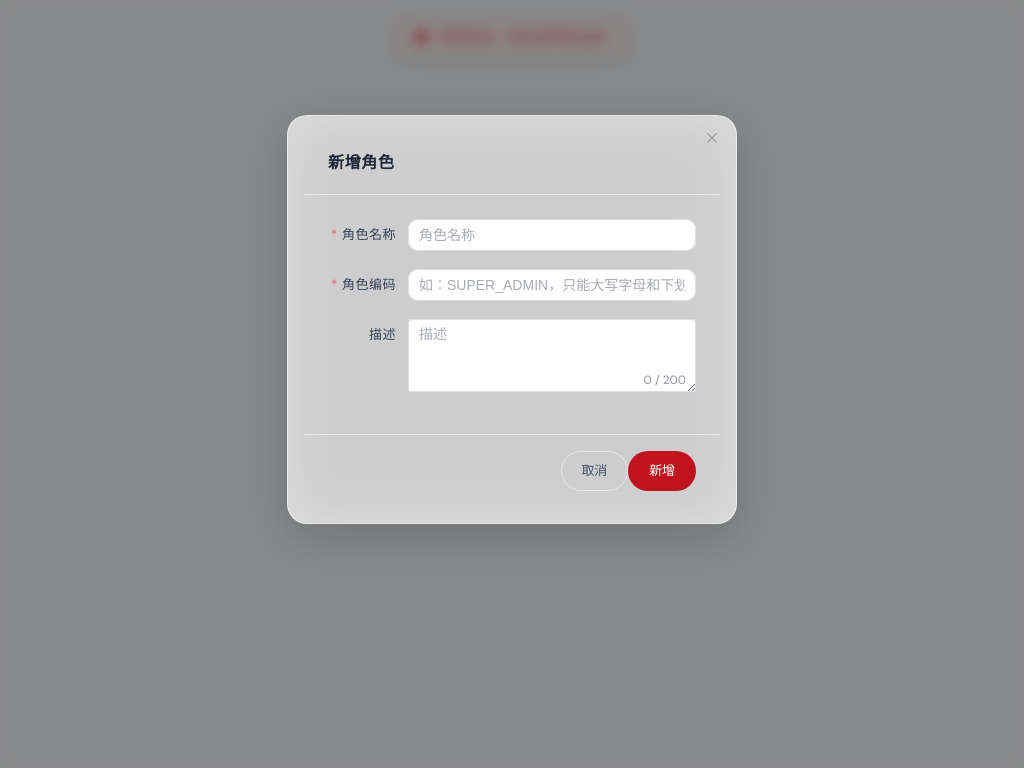
Test: RoleFormDialog 角色编码即时归一 › 连续输入：每次都在上一次结果上继续归一（不是只处理第一次）
Type "a-b" into the field with id "roleCode" at (552, 285), box x1=419 y1=270 x2=685 y2=300
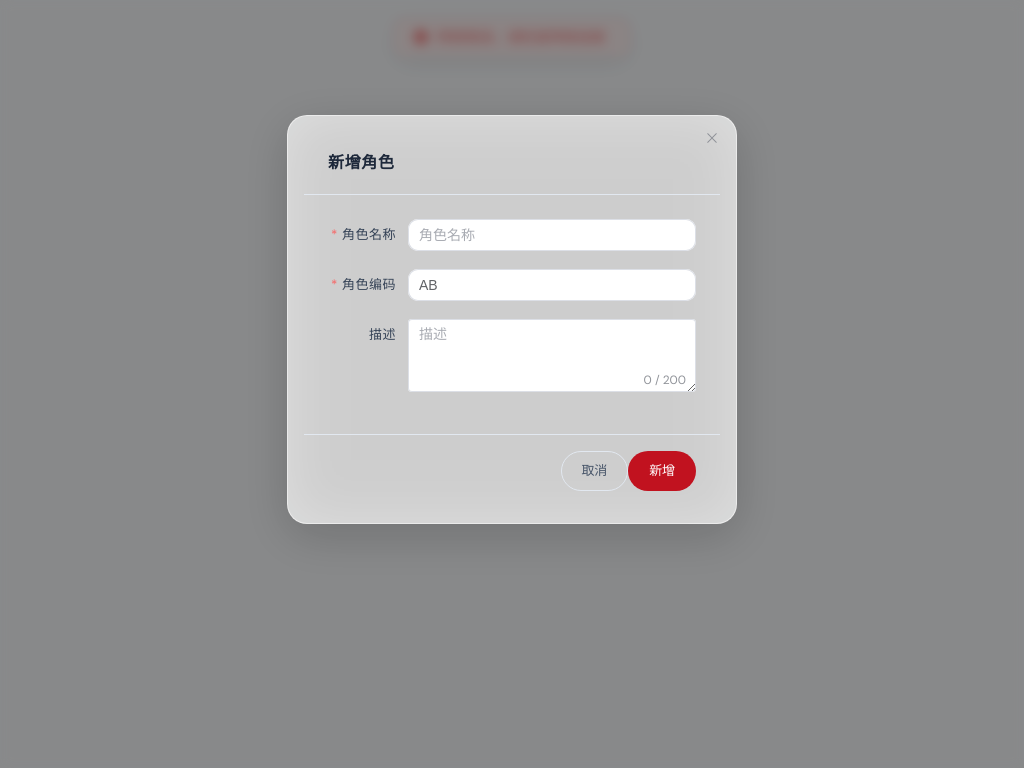
Replace the text in the field with id "roleCode" with "ab-cd" at (552, 285), box x1=419 y1=270 x2=685 y2=300
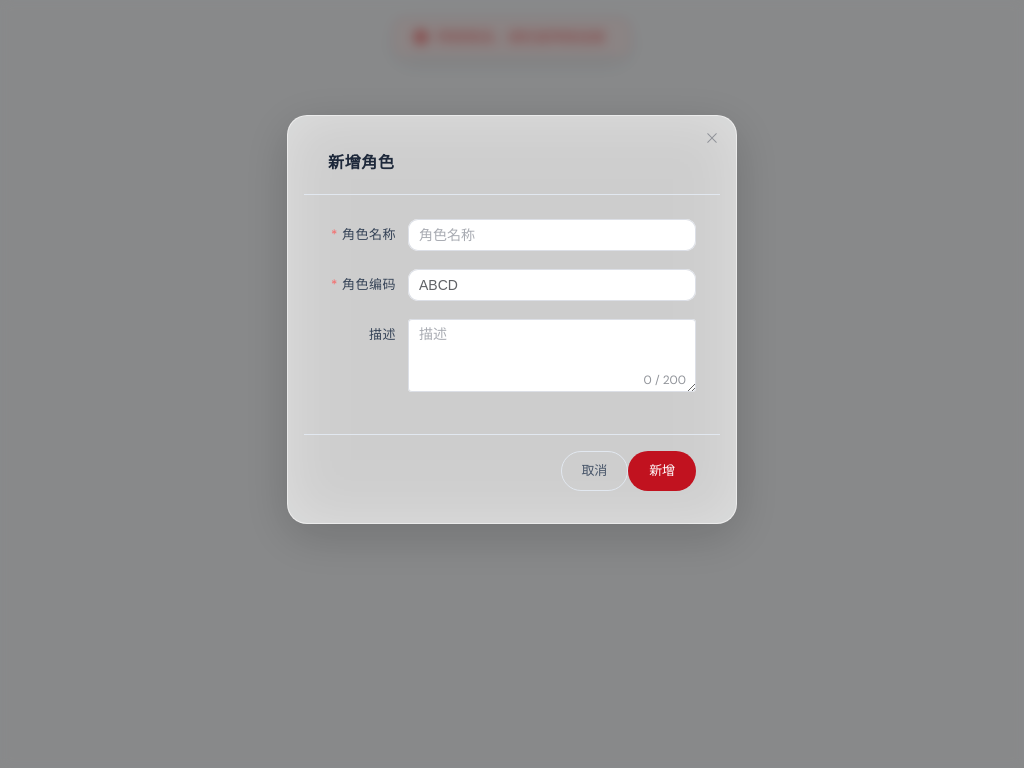
expect the field with id "roleCode" holds "ABCD": met, box x1=419 y1=270 x2=685 y2=300
